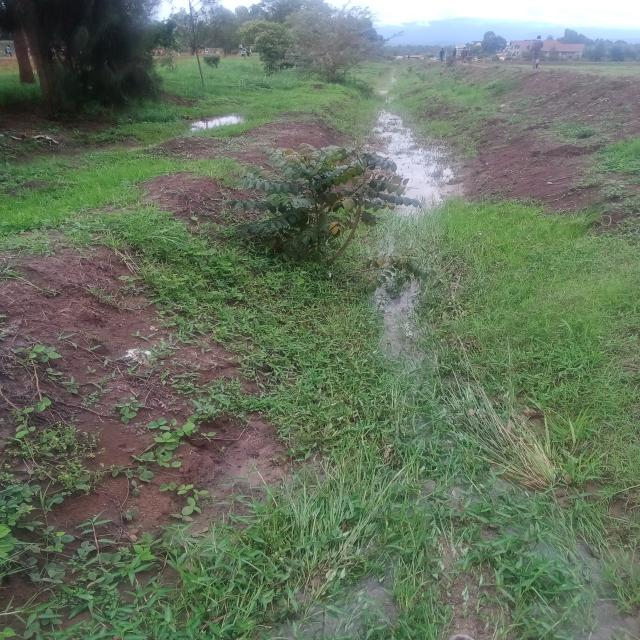Polyscias Kikuyensis: (234, 136, 412, 272)
